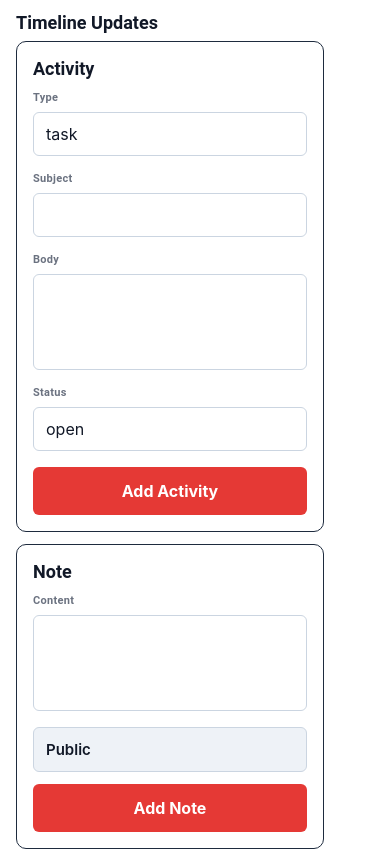
Test case: CRM entity child forms › shows child mutation failures without clearing entered data
The image size is (390, 856).
Step 1. Type "Follow up" into the field with test id "crm-entity-child-activity-subject" → (170, 215), box left=33, top=193, right=307, bottom=237
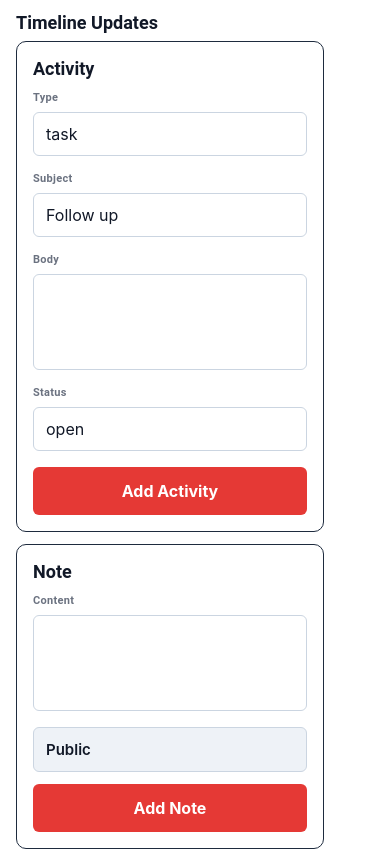
Step 2. Click the element with test id "crm-entity-child-activity-submit" → (170, 491), box left=33, top=467, right=307, bottom=515
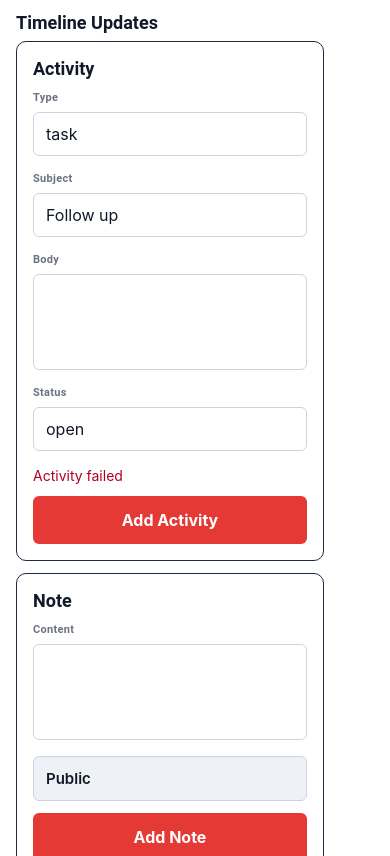
Expected: the text "Activity failed" is shown, left=33, top=467, right=123, bottom=484
